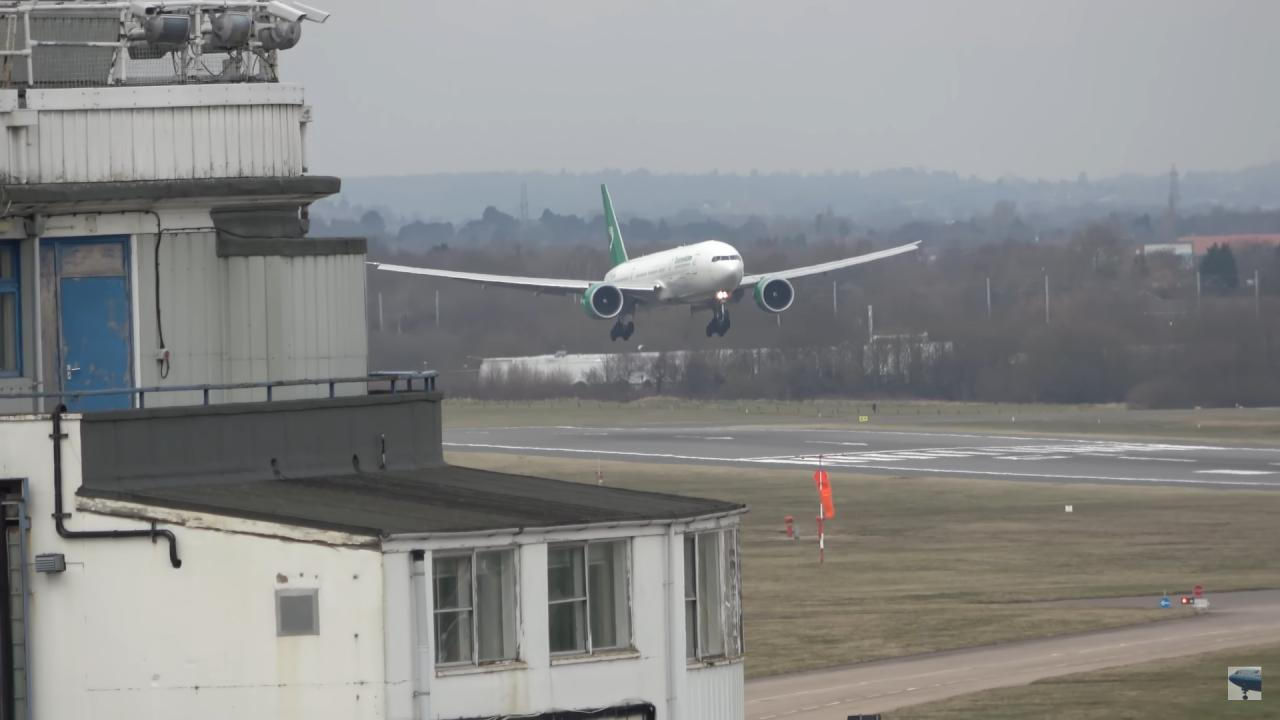Airplane: (365, 174, 932, 346)
